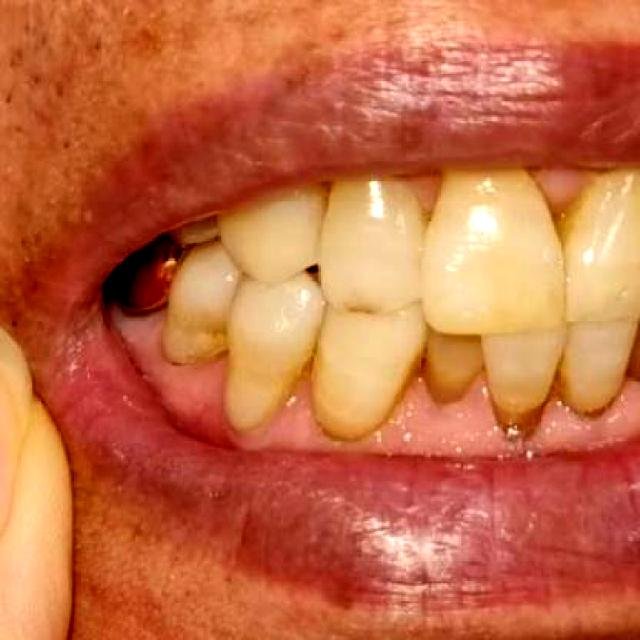Plaque: (273, 372, 633, 459)
